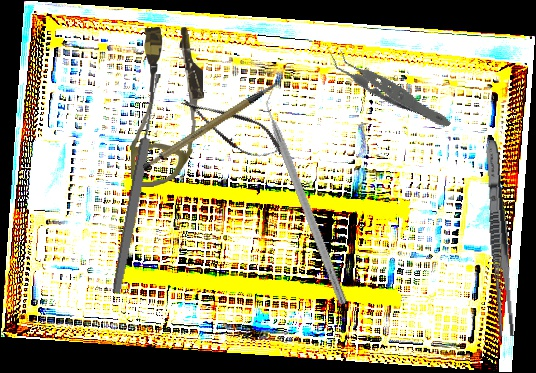Cannula: (126, 25, 207, 188)
Chopper: (256, 83, 360, 306)
Dressing Forceps: (481, 139, 518, 338)
Micro Scissor: (174, 85, 289, 170)
Scalpel Handle: (133, 81, 289, 174)
Surgical Spoon: (109, 72, 166, 295)
Tissue Forceps: (325, 13, 453, 160)
